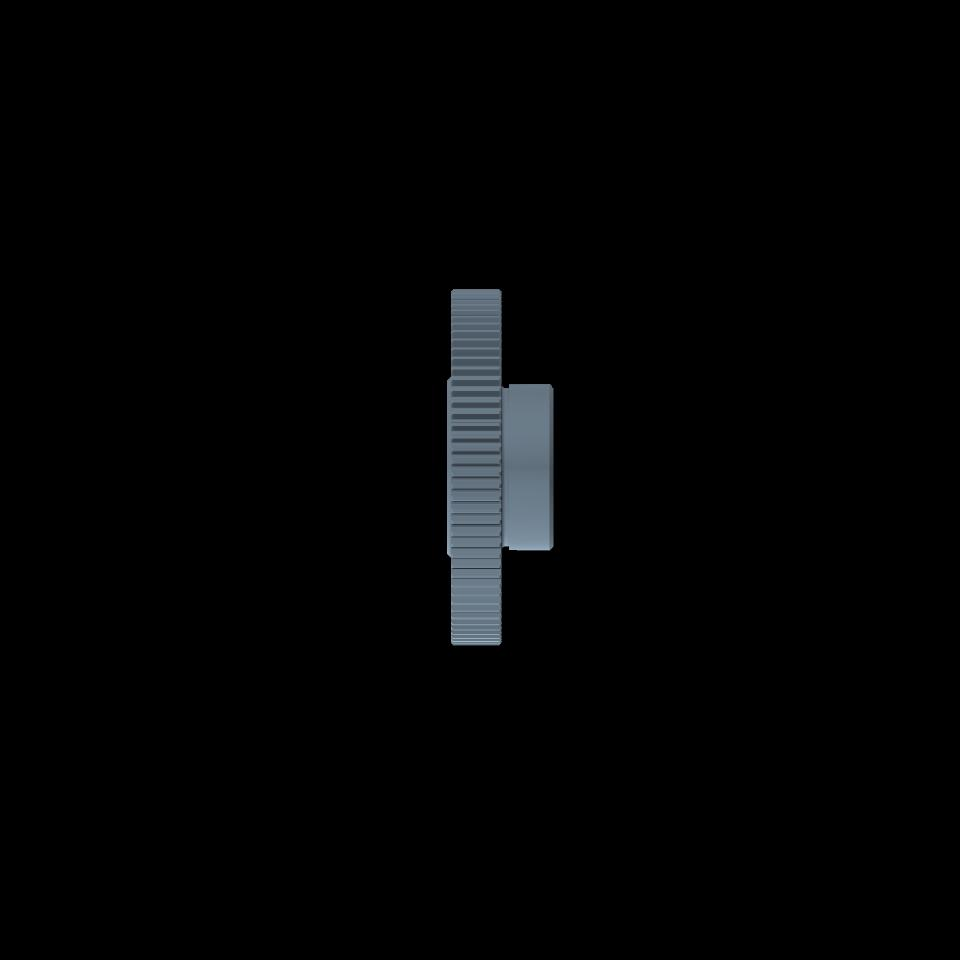Straight: (454, 289, 498, 644)
